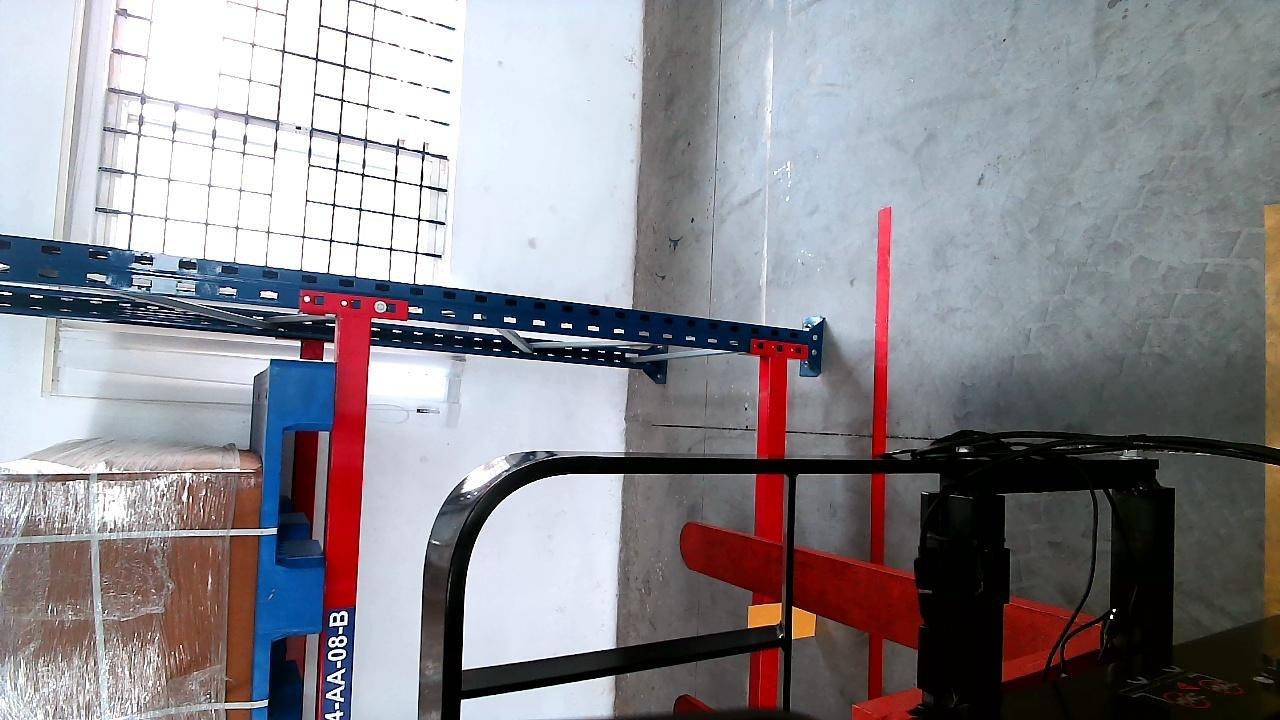red_line: (863, 206, 892, 697)
yellow_line: (1260, 204, 1279, 614)
